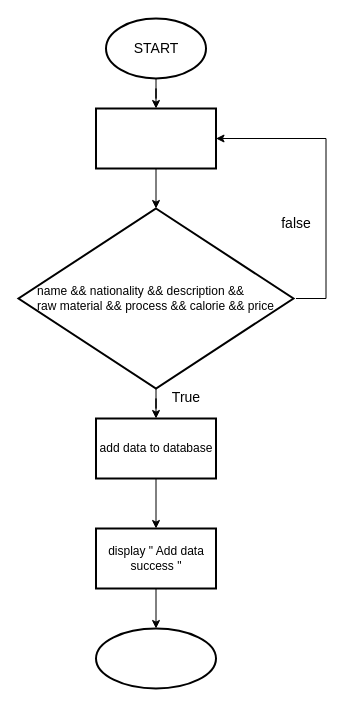
Image size: 351x706. Some labels were removed from this diagram. Each missing label, with the centre of its shape:
END: point (155, 658)
input data: point (155, 138)
